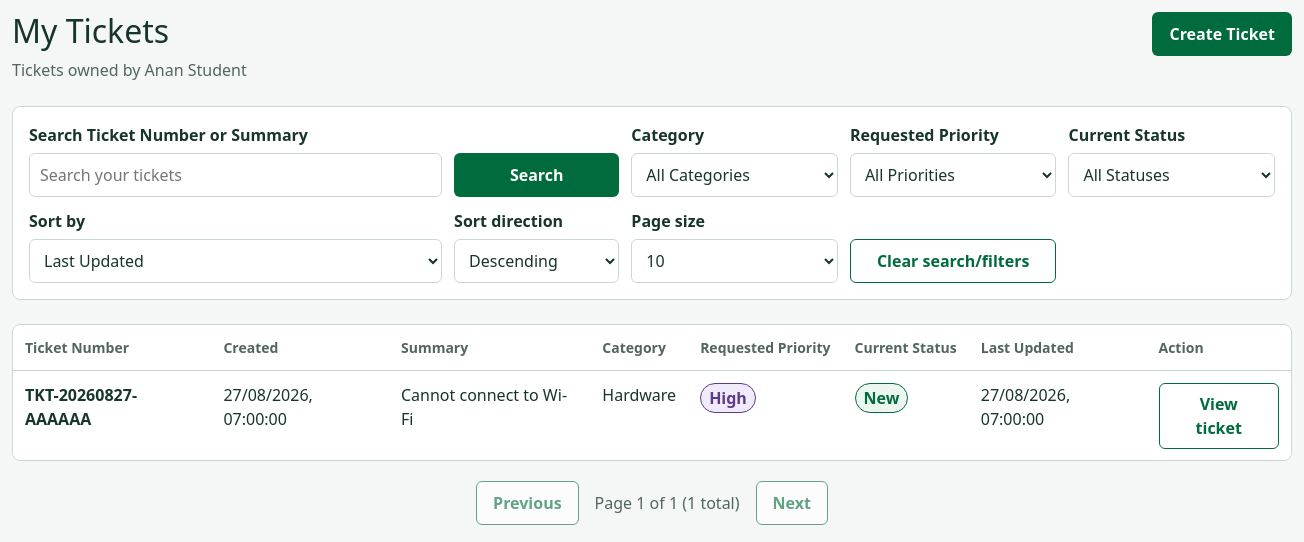
Test: UI-06 My Tickets states › uses exactly one unrestricted page=1&pageSize=10 probe to distinguish No Results
The image size is (1304, 542).
Step 1. Type "does-not-exist" into the search field labelled "Search Ticket Number or Summary" → (236, 175), box [29,153,442,197]
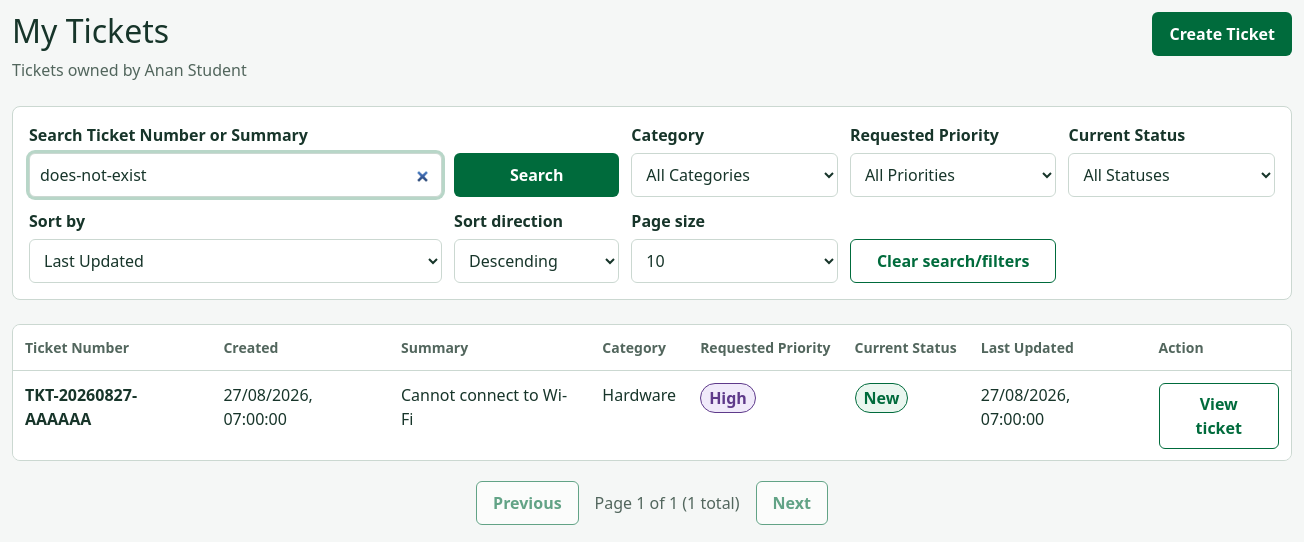
Step 2. Click the button "Search" → click(537, 175), box [454,153,619,197]
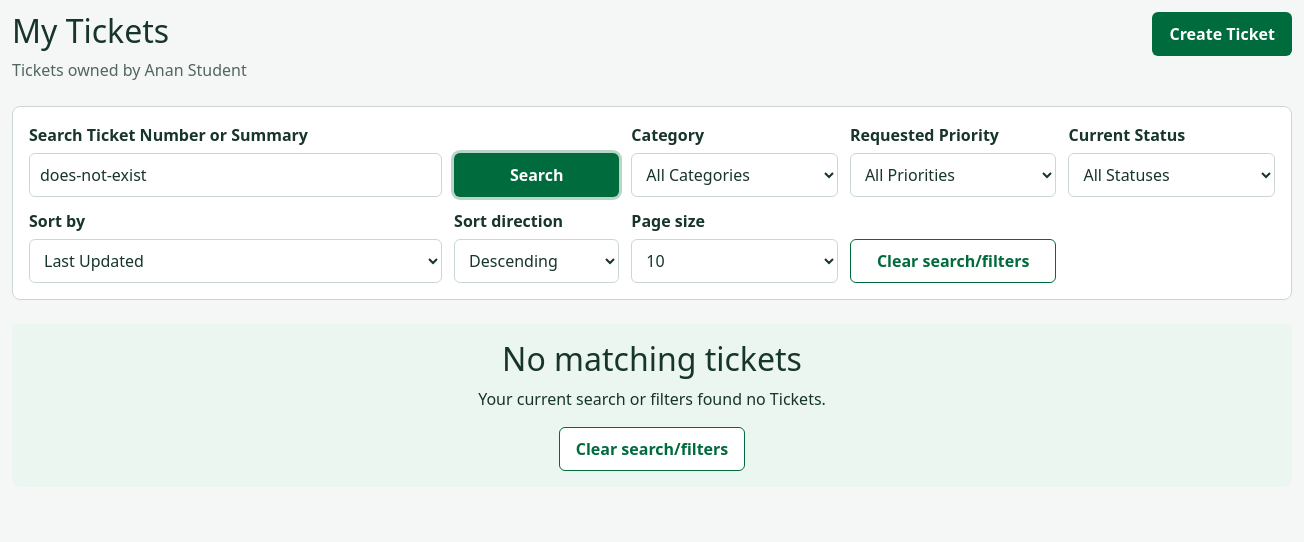
Now the heading "No matching tickets" is shown, box [502,337,802,380]
